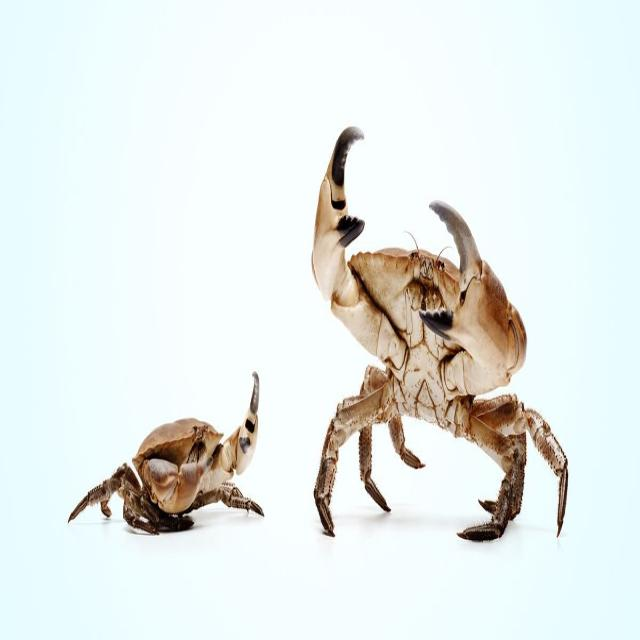crab: (314, 172, 507, 430), (113, 364, 251, 533)
